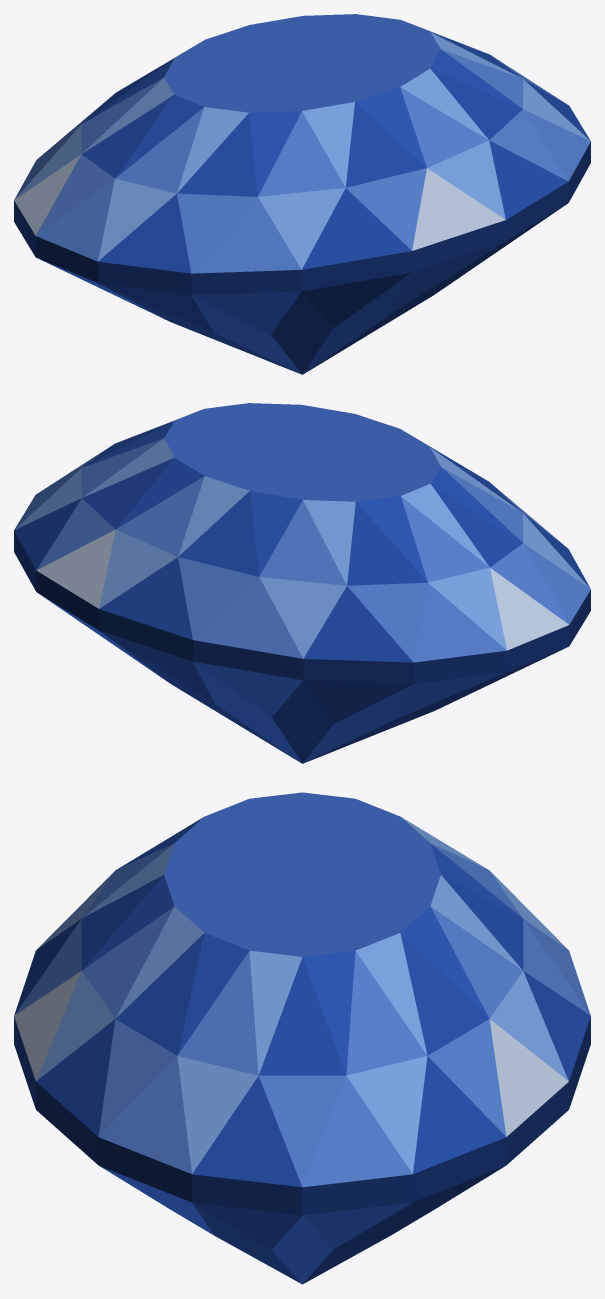
The model's file is treasure_sapphire.glb.
3 views of the same model, one above another, from view 1: azimuth 30°, elevation 25°; view 2: azimuth 150°, elevation 25°; view 3: azimuth 270°, elevation 25° (orthographic). The views are drawn at different scales.
Visible parts, largest first — view 1: treasure_sapphire; view 2: treasure_sapphire; view 3: treasure_sapphire.
Boxes of the visible parts, x1=… form: treasure_sapphire: x1=14, y1=14, x2=590, y2=374; treasure_sapphire: x1=14, y1=403, x2=590, y2=763; treasure_sapphire: x1=14, y1=792, x2=590, y2=1284.
Size of the model in its own units: 0.104 by 0.058 by 0.074.
